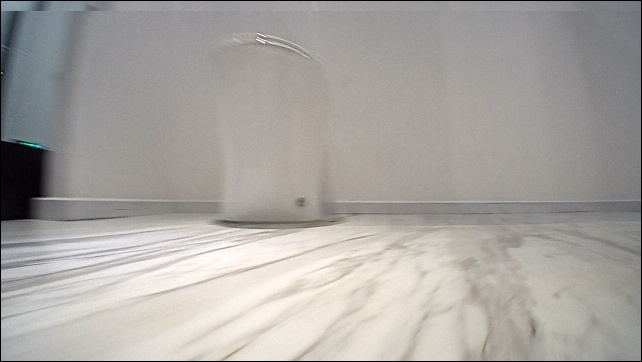toilet: (201, 27, 336, 225)
